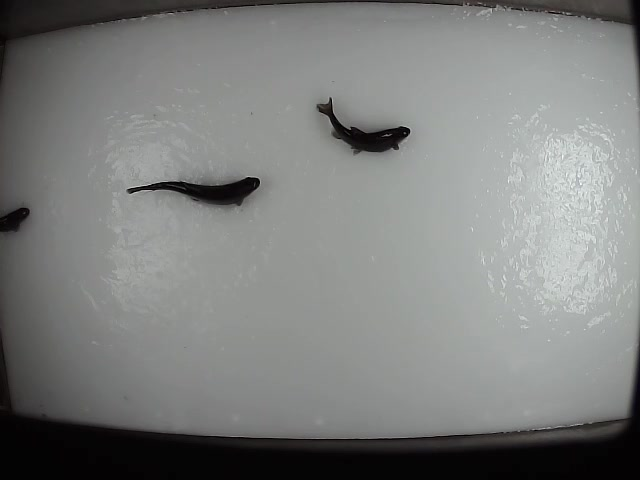Fish: (317, 97, 411, 155), (127, 176, 260, 206)
